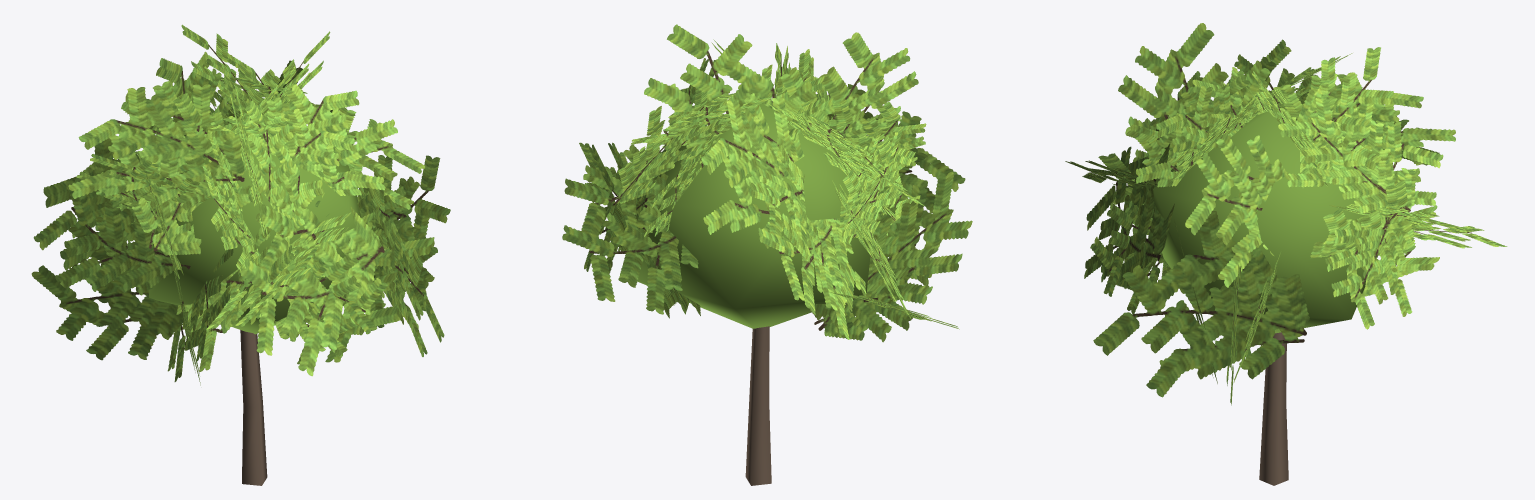
Rendered from GLEDITSIA_2.glb.
The picture shows the model from 3 angles, left to right: view 1: azimuth 30°, elevation 25°; view 2: azimuth 150°, elevation 25°; view 3: azimuth 270°, elevation 25°; orthographic projection. The views are drawn at different scales.
Visible parts, largest first — view 1: Arv_GLEDITSIA_lod2; view 2: Arv_GLEDITSIA_lod2; view 3: Arv_GLEDITSIA_lod2.
Part boxes in pixels (x1,y1,x2,y2): Arv_GLEDITSIA_lod2: (31,24,450,485); Arv_GLEDITSIA_lod2: (562,24,972,485); Arv_GLEDITSIA_lod2: (1065,23,1507,485).
Size of the model in its own units: 11.78 by 11.8 by 11.65.
3 materials, 1 textured.
